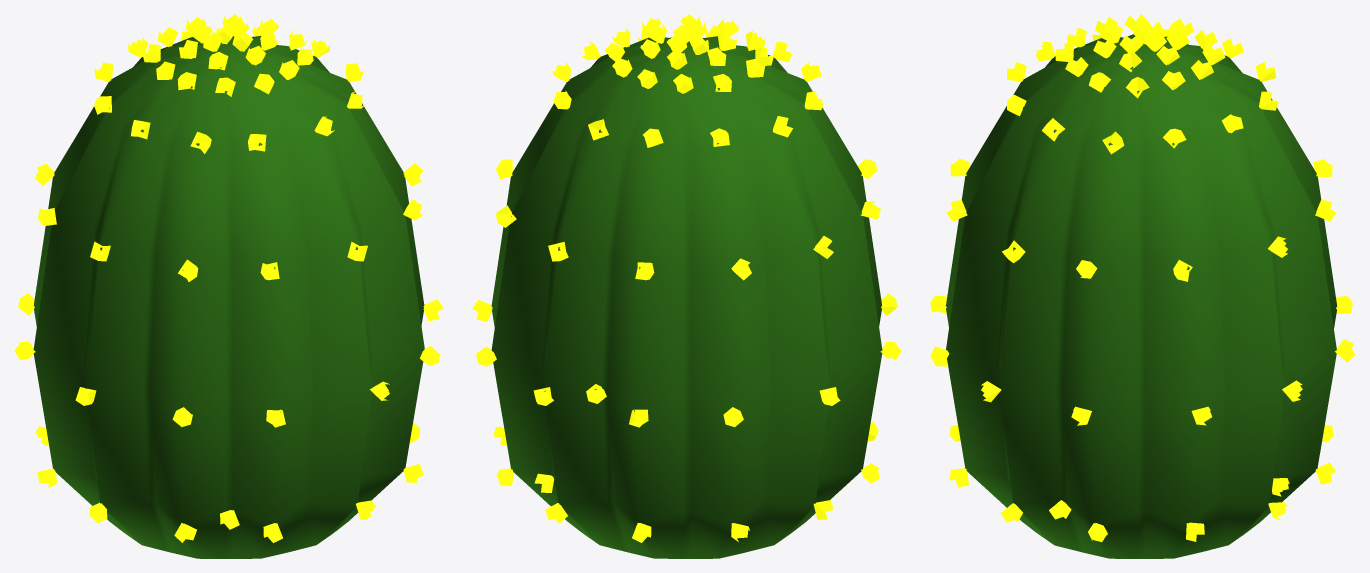
Rendered from cactusball01.fbx.
3 views of the same model, side by side, from view 1: azimuth 30°, elevation 25°; view 2: azimuth 150°, elevation 25°; view 3: azimuth 270°, elevation 25° (orthographic).
Parts seen in each view (by area): view 1: Sphere.001; view 2: Sphere.001; view 3: Sphere.001.
Part boxes in pixels (x1,y1,x2,y2): Sphere.001: (14, 14, 443, 558); Sphere.001: (472, 14, 901, 558); Sphere.001: (930, 14, 1355, 558).
Bounding box in the file's own units: 54.09 × 67.18 × 54.45.
